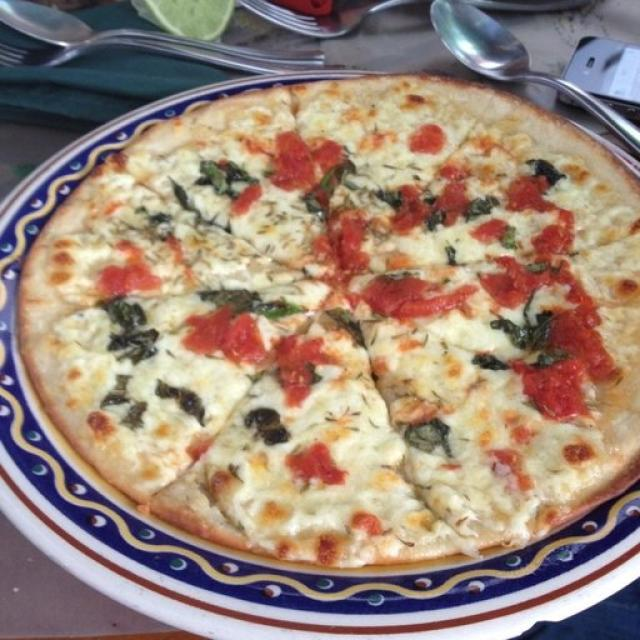Basil: (107, 300, 158, 360), (155, 378, 207, 420), (200, 159, 249, 193), (244, 407, 290, 441), (406, 420, 454, 452), (328, 303, 364, 342), (110, 390, 151, 424), (208, 288, 267, 308), (271, 297, 302, 317), (534, 157, 566, 175), (502, 222, 520, 248)
Pizza: (21, 76, 640, 570)
Tomato: (362, 270, 458, 322), (270, 128, 334, 188), (519, 364, 587, 418), (186, 311, 261, 359), (484, 254, 553, 304), (554, 305, 607, 364), (276, 330, 316, 398), (294, 439, 342, 484), (507, 172, 554, 215), (332, 217, 371, 266), (98, 259, 151, 295), (438, 180, 468, 216), (402, 182, 423, 231), (406, 125, 444, 150)
